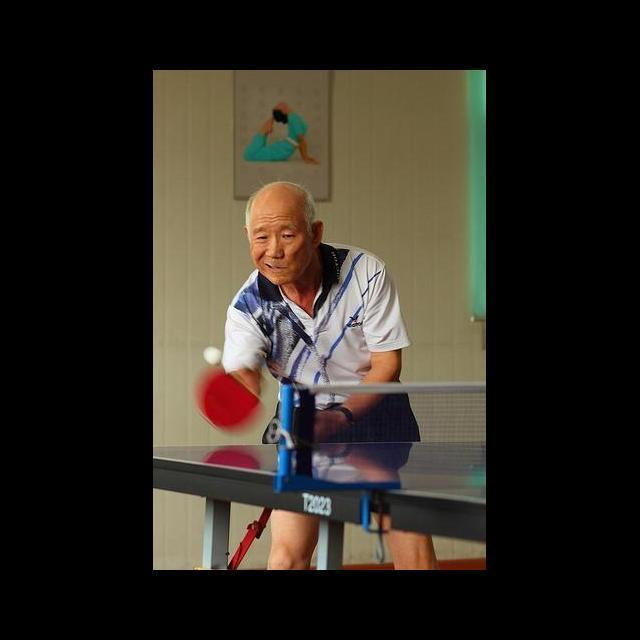ping-pong-ball: (202, 346, 222, 364)
